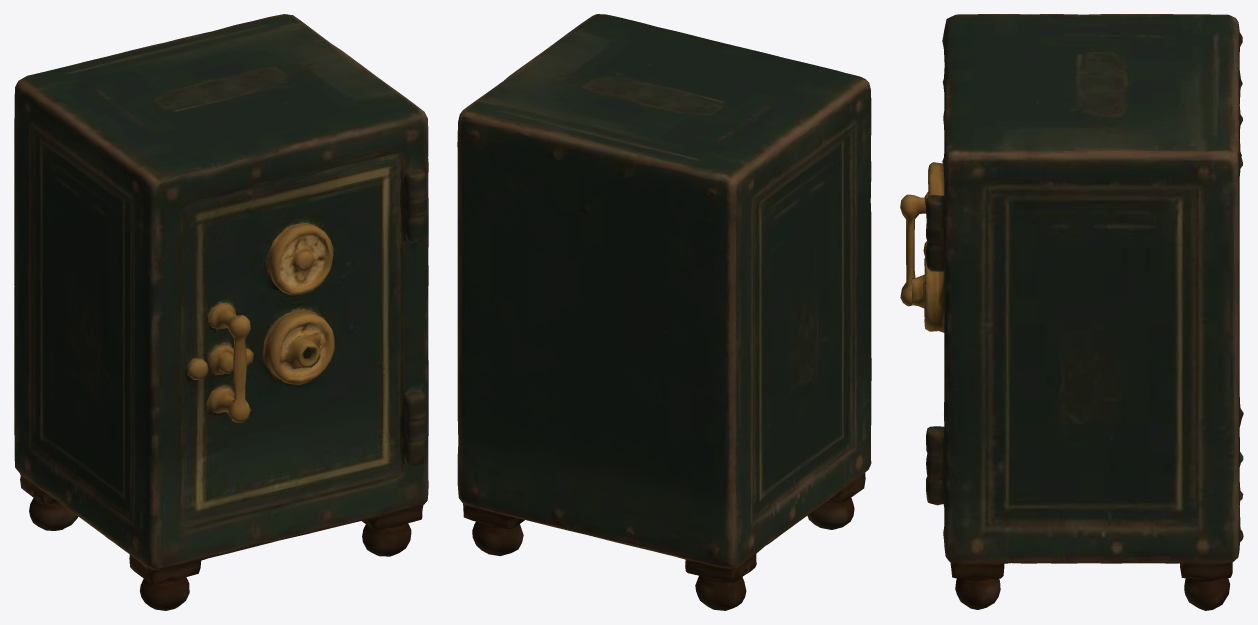
The model's file is caja_fuerte.glb.
3 renders of one model, left to right at view 1: azimuth 30°, elevation 25°; view 2: azimuth 150°, elevation 25°; view 3: azimuth 270°, elevation 25°, orthographic. The views are drawn at different scales.
Visible parts, largest first — view 1: geometry_0; view 2: geometry_0; view 3: geometry_0.
Part boxes in pixels (left/top/right/bottom): geometry_0: left=14, top=14, right=428, bottom=610; geometry_0: left=457, top=14, right=871, bottom=610; geometry_0: left=900, top=14, right=1243, bottom=610.
Size of the model in its own units: 0.6 by 0.9 by 0.6.
1 material, 1 textured.
